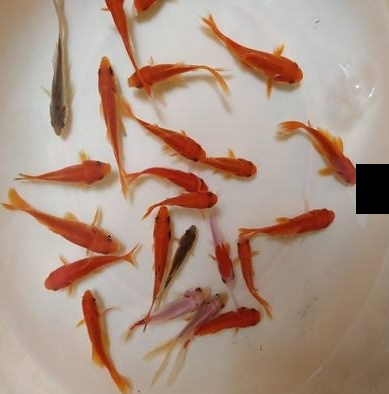fry: (208, 13, 319, 92), (2, 189, 123, 258), (29, 11, 77, 146), (74, 285, 134, 387), (282, 118, 369, 186), (128, 51, 228, 103), (29, 249, 143, 293), (90, 54, 132, 168), (10, 152, 118, 190), (139, 111, 210, 165), (232, 223, 274, 307), (251, 206, 345, 243), (144, 205, 176, 299), (199, 222, 241, 293), (131, 164, 215, 194), (172, 211, 204, 282), (207, 147, 265, 184), (94, 1, 134, 54), (147, 189, 228, 212), (163, 280, 210, 318), (218, 306, 269, 337), (201, 287, 230, 327), (132, 1, 161, 17)
